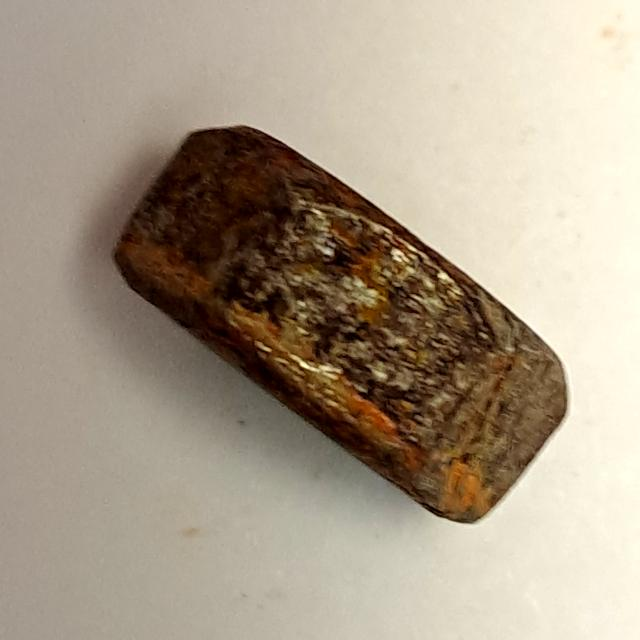Rust: (94, 113, 583, 537)
